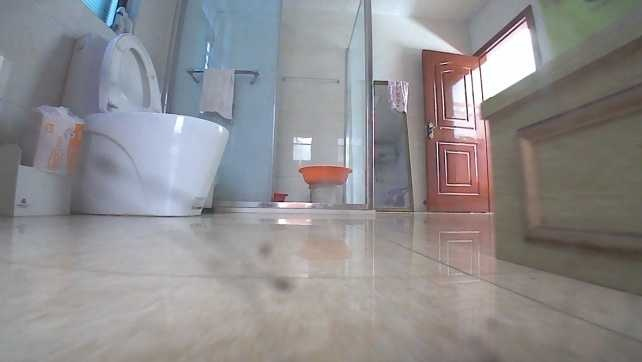door_anno: (413, 44, 497, 212)
toilet: (53, 29, 234, 218)
